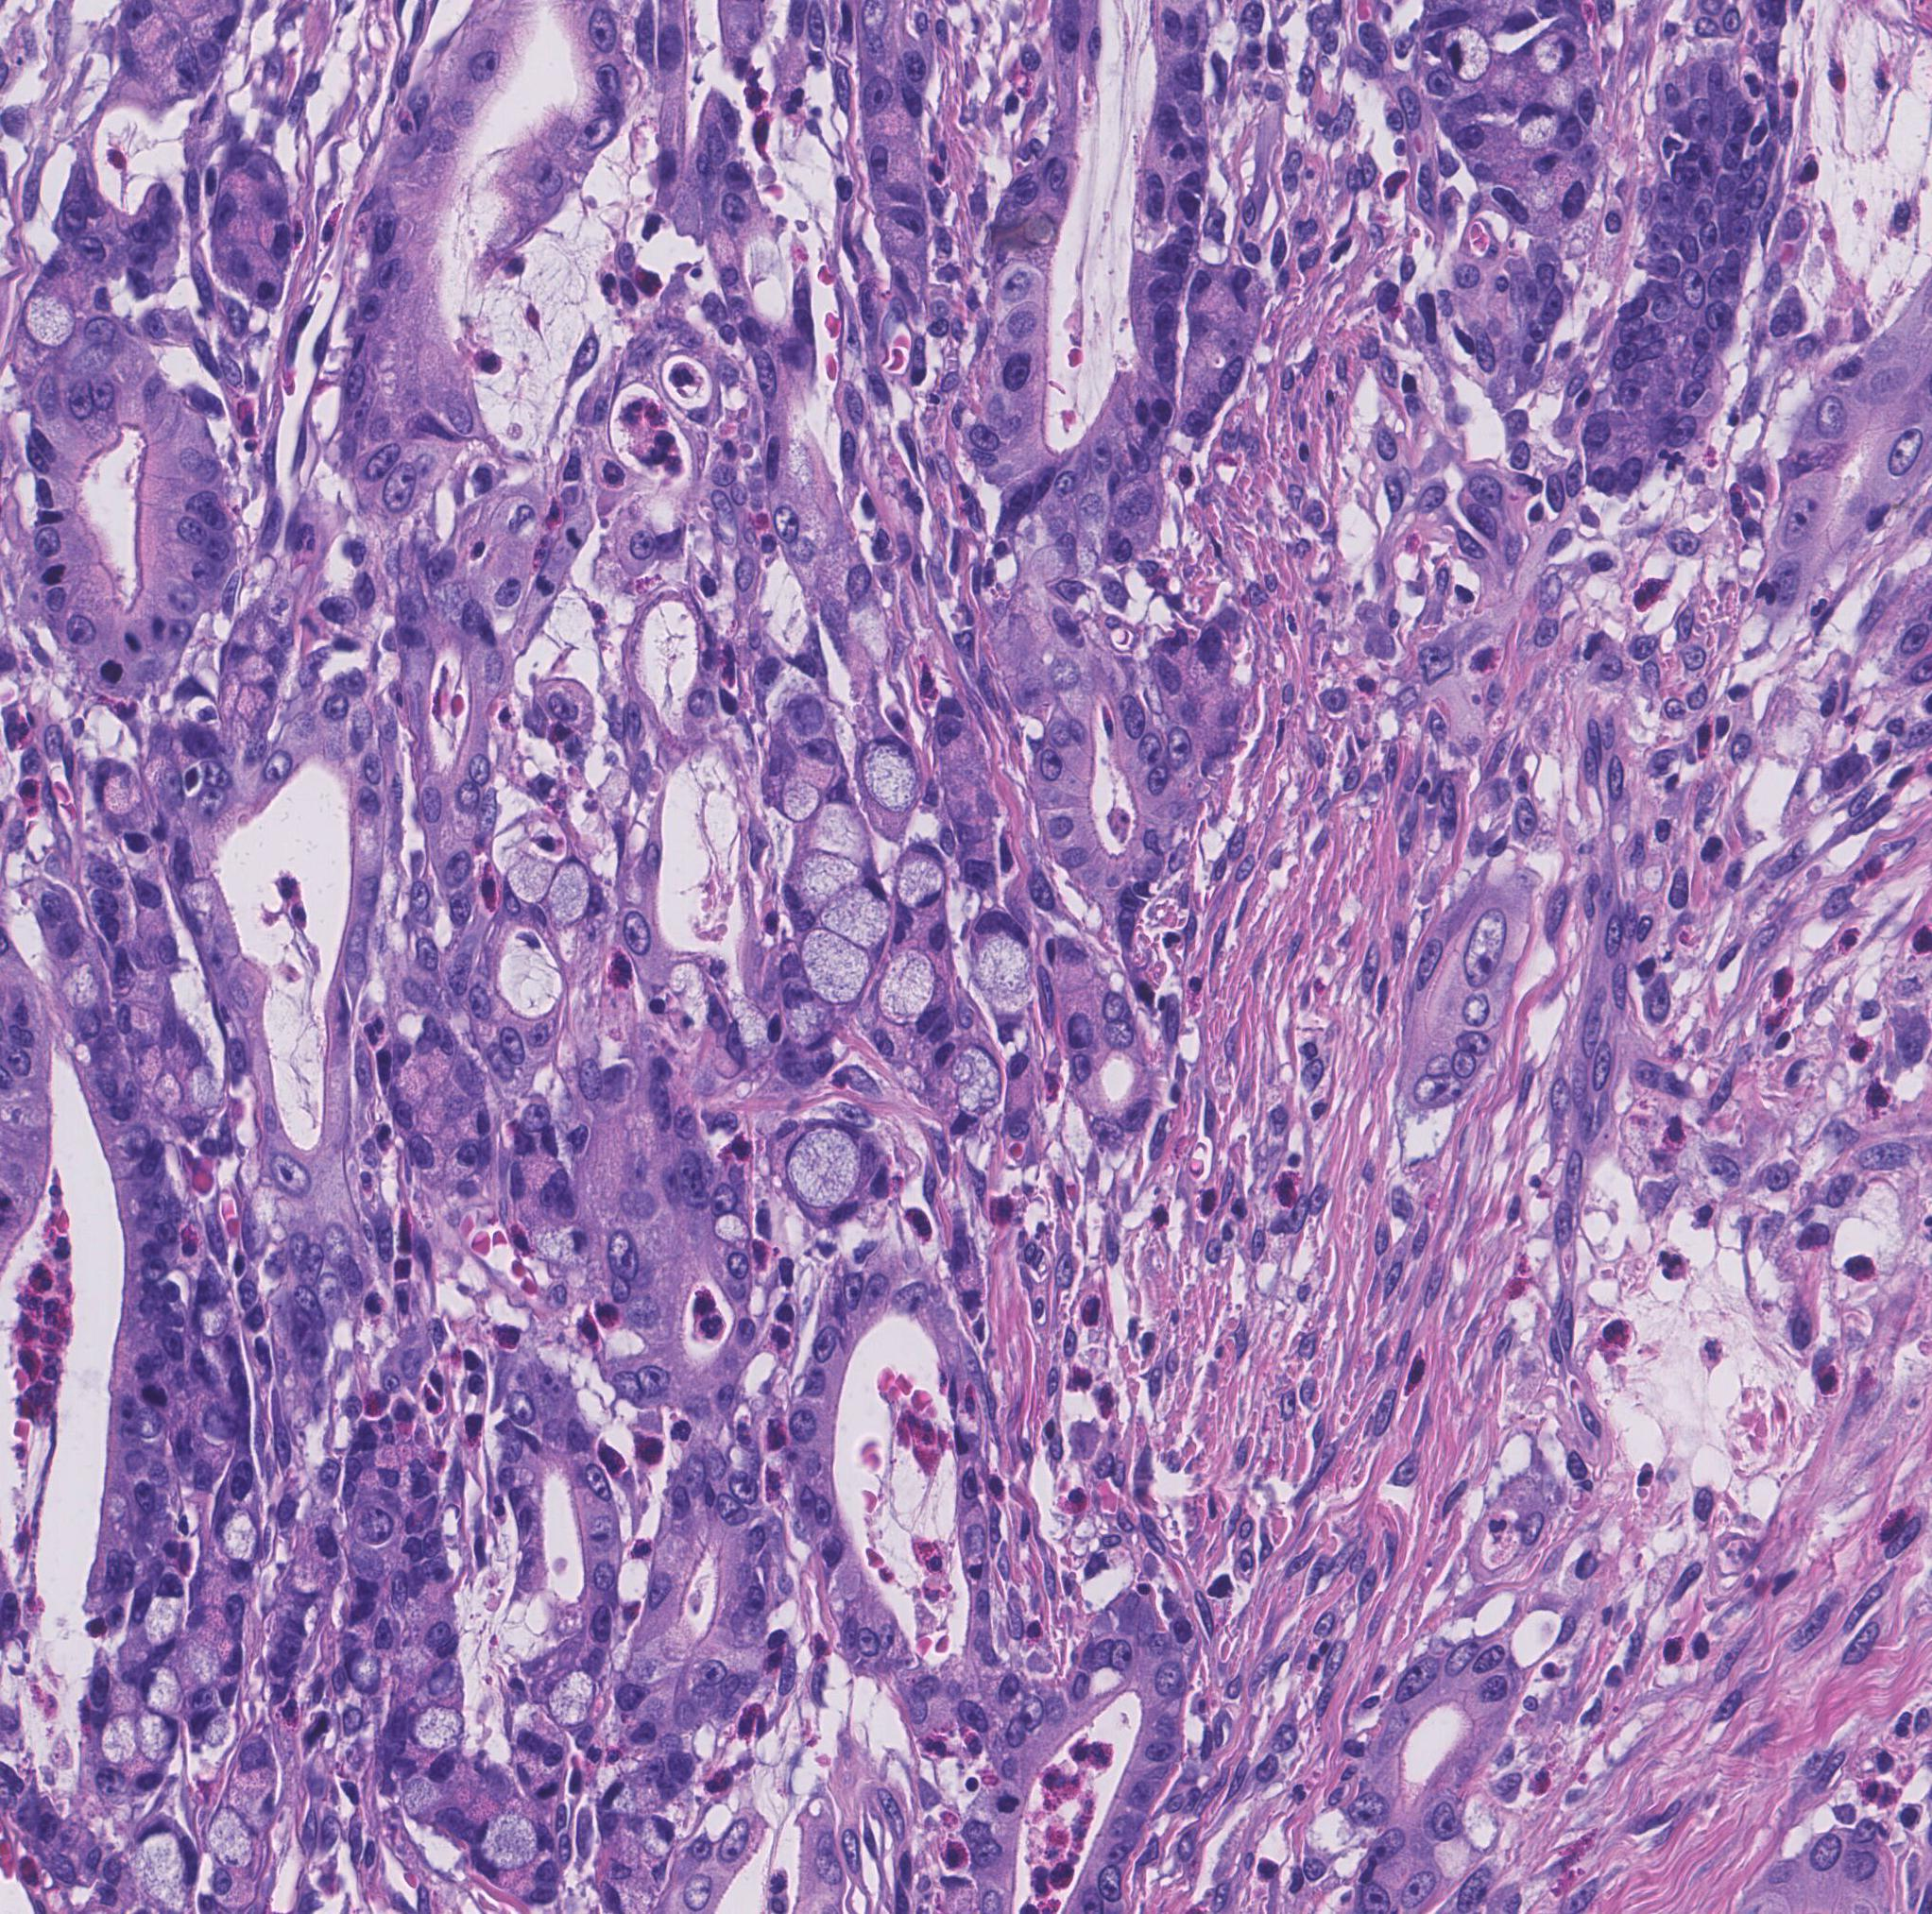ring_cell_cancer: (966, 910, 1041, 1015), (780, 847, 854, 917), (135, 1816, 198, 1895), (820, 880, 889, 946), (470, 1811, 538, 1875), (859, 731, 917, 803), (21, 284, 79, 352), (898, 838, 950, 910), (952, 1043, 1005, 1115), (780, 989, 842, 1048), (552, 861, 605, 929), (91, 759, 147, 817), (144, 1586, 193, 1644), (505, 852, 558, 904), (212, 1507, 263, 1558), (796, 738, 842, 790), (1448, 30, 1494, 82), (1515, 105, 1564, 147), (137, 1667, 181, 1711), (338, 1649, 382, 1693), (139, 1712, 175, 1763), (642, 1811, 678, 1861), (1531, 39, 1576, 74), (191, 1705, 228, 1744), (212, 1644, 242, 1674)
